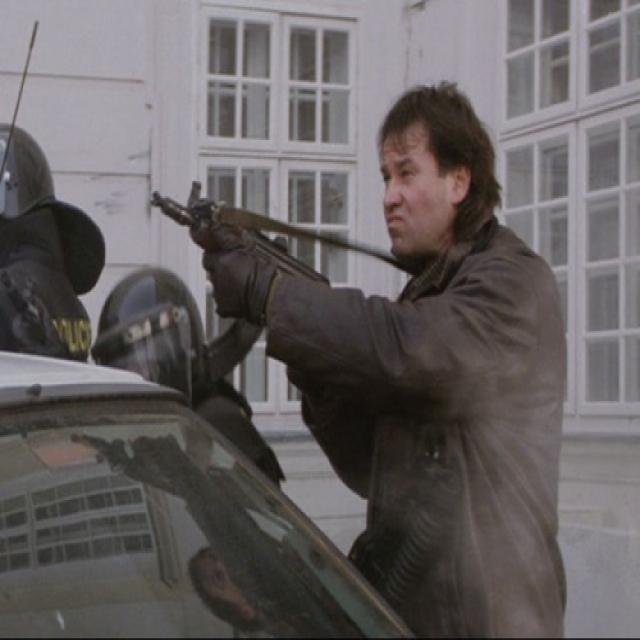rifle: (151, 176, 337, 289)
